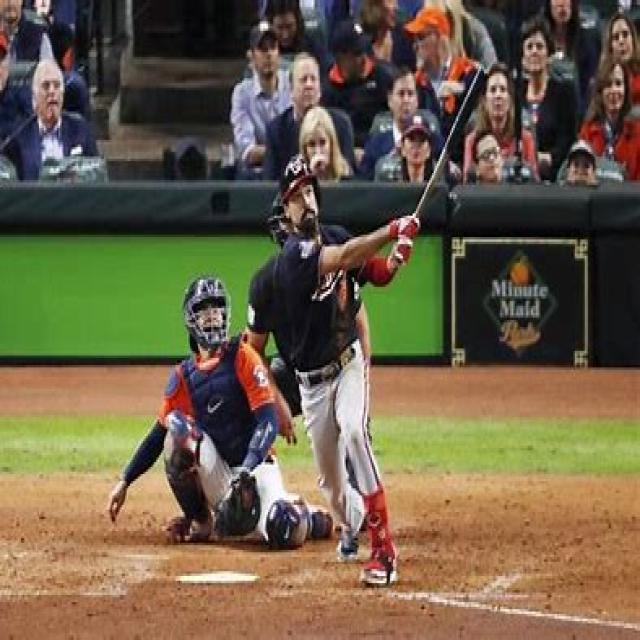bat: (411, 61, 491, 221)
